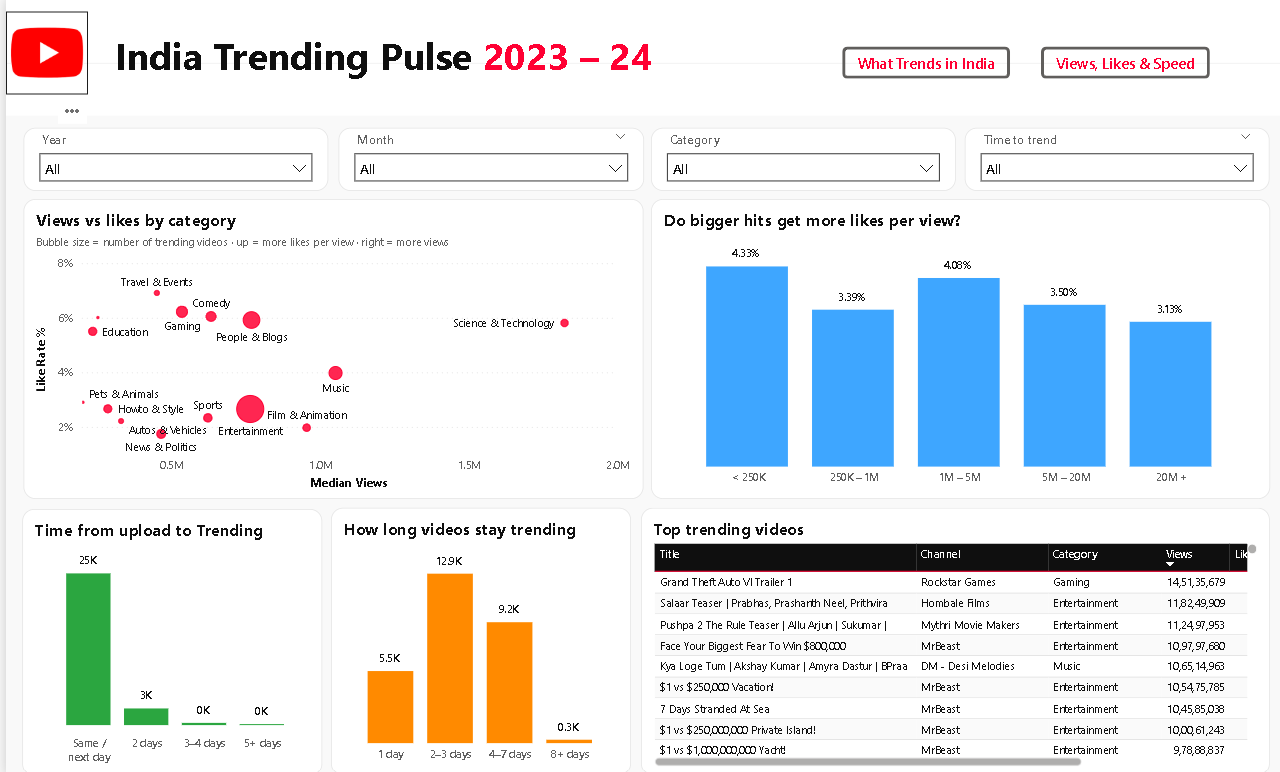

The page's visual inventory and layout, read from the dashboard file:
{"tool":"powerbi","page":{"name":"Views, Likes & Speed","canvas":[1280,777],"ordinal":1},"visuals":[{"type":"shape","box":[0,0,1280,116.7],"z":1000},{"type":"shape","box":[0,64,1280,1],"z":2000},{"type":"textbox","box":[103.3,26.7,658.9,74.4],"z":5000},{"type":"actionButton","box":[836.7,47.8,167.8,32.2],"z":7000},{"type":"actionButton","box":[1035.6,47.8,168.9,32.2],"z":8000},{"type":"slicer","fields":{"Values":["Videos.Trending Year"]},"box":[17.8,128.9,304.4,63.3],"z":9000},{"type":"slicer","fields":{"Values":["Videos.Trending Month"]},"box":[332.2,128.9,305.6,63.3],"z":10000},{"type":"slicer","fields":{"Values":["Categories.Category"]},"box":[645.6,128.9,304.4,63.3],"z":11000},{"type":"slicer","fields":{"Values":["Videos.Time to Trend"]},"box":[958.9,128.9,304.4,63.3],"z":12000},{"type":"scatterChart","title":"Views vs likes by category","fields":{"Category":["Categories.Category"],"X":["Videos.Median Views"],"Y":["Videos.Like Rate %"],"Size":["Videos.Trending Videos"]},"box":[17.8,200,620,300],"z":13000},{"type":"clusteredColumnChart","title":"Do bigger hits get more likes per view?","fields":{"Category":["Videos.View Band"],"Y":["Videos.Like Rate %"]},"box":[644.4,200,618.9,300],"z":14000},{"type":"clusteredColumnChart","title":"Time from upload to Trending","fields":{"Category":["Videos.Time to Trend"],"Y":["Videos.Trending Videos"]},"box":[16.2,510,300,267.5],"z":15000},{"type":"clusteredColumnChart","title":"How long videos stay trending","fields":{"Category":["Videos.Trending Duration"],"Y":["Videos.Trending Videos"]},"box":[325.6,508.9,300,267.8],"z":16000},{"type":"tableEx","title":"Top trending videos","fields":{"Values":["Videos.Title","Channels.Channel","Categories.Category","Videos.Views","Videos.Video Like Rate","Videos.Days to Trend","Videos.Days on Trending","Videos.Watch URL"]},"box":[635.6,508.9,628.9,267.8],"z":17000},{"type":"image","box":[0,12.2,82.2,82.2],"z":17001}]}

Visuals, with their boxes in screenshot pixels (x1, y1, x2, y2), scaled from the page's 1280x777 canvas onto the 1280x772 screenshot:
shape: [left=0, top=0, right=1279, bottom=116]
shape: [left=0, top=64, right=1279, bottom=65]
textbox: [left=103, top=27, right=762, bottom=100]
actionButton: [left=837, top=47, right=1004, bottom=79]
actionButton: [left=1036, top=47, right=1204, bottom=79]
slicer - Videos.Trending Year: [left=18, top=128, right=322, bottom=191]
slicer - Videos.Trending Month: [left=332, top=128, right=638, bottom=191]
slicer - Categories.Category: [left=646, top=128, right=950, bottom=191]
slicer - Videos.Time to Trend: [left=959, top=128, right=1263, bottom=191]
"Views vs likes by category" scatterChart: [left=18, top=199, right=638, bottom=497]
"Do bigger hits get more likes per view?" clusteredColumnChart: [left=644, top=199, right=1263, bottom=497]
"Time from upload to Trending" clusteredColumnChart: [left=16, top=507, right=316, bottom=771]
"How long videos stay trending" clusteredColumnChart: [left=326, top=506, right=626, bottom=771]
"Top trending videos" tableEx: [left=636, top=506, right=1264, bottom=771]
image: [left=0, top=12, right=82, bottom=94]
